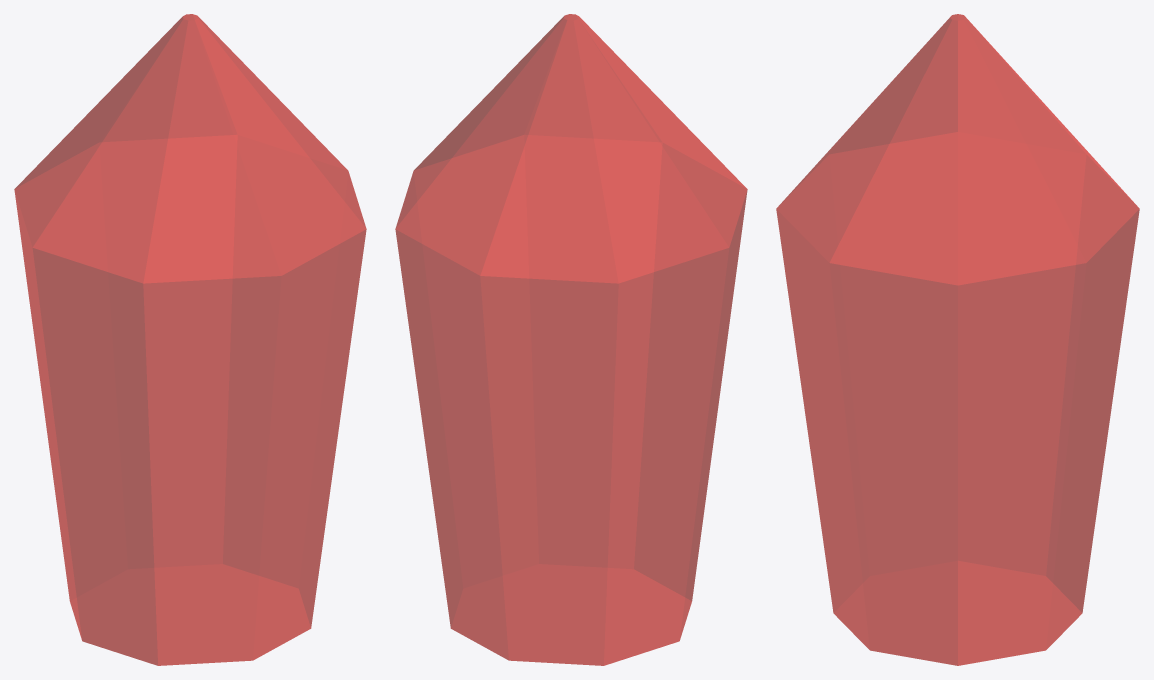
Rendered from RedKristall.glb.
3 renders of one model, left to right at view 1: azimuth 30°, elevation 25°; view 2: azimuth 150°, elevation 25°; view 3: azimuth 270°, elevation 25°, orthographic.
Parts seen in each view (by area): view 1: Circle.020; view 2: Circle.020; view 3: Circle.020.
Boxes of the visible parts, bbox=[...] form: Circle.020: bbox=[14, 14, 366, 665]; Circle.020: bbox=[395, 14, 747, 665]; Circle.020: bbox=[776, 14, 1139, 665].
Bounding box in the file's own units: 0.5681 × 1.03 × 0.5681.
